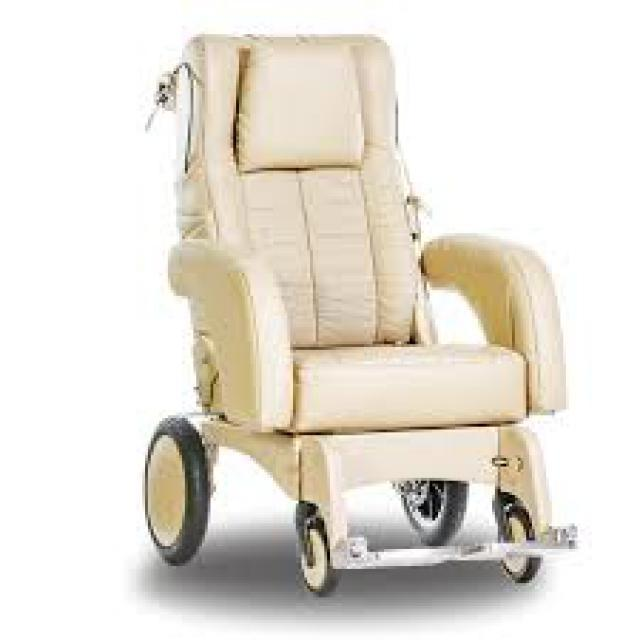wheelchairs: (157, 27, 575, 595)
